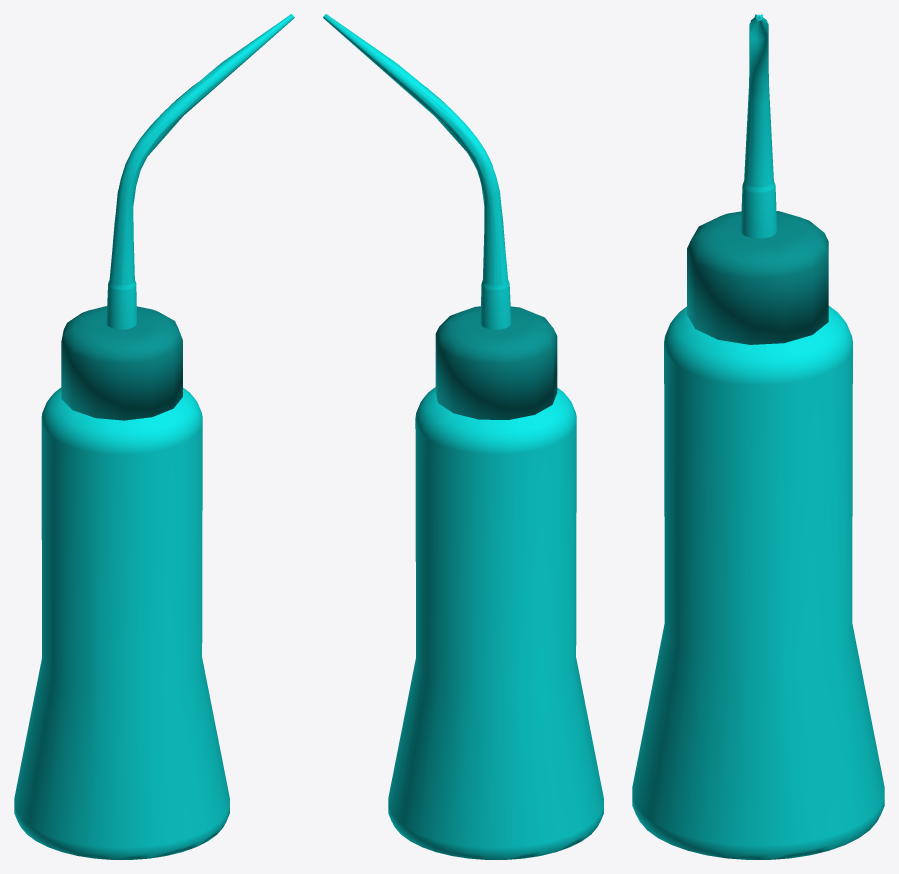
Rendered from wash_bottle_02.fbx.
3 views of the same model, side by side, from view 1: azimuth 30°, elevation 25°; view 2: azimuth 150°, elevation 25°; view 3: azimuth 270°, elevation 25° (orthographic). The views are drawn at different scales.
Visible parts, largest first — view 1: wash_bottle_06.001; view 2: wash_bottle_06.001; view 3: wash_bottle_06.001.
Part boxes in pixels (x1=…): wash_bottle_06.001: x1=14, y1=14, x2=294, y2=859; wash_bottle_06.001: x1=323, y1=14, x2=603, y2=859; wash_bottle_06.001: x1=632, y1=14, x2=884, y2=859.
Bounding box in the file's own units: 25.59 × 69.98 × 17.99.
Materials: 1 (1 with a texture image).
